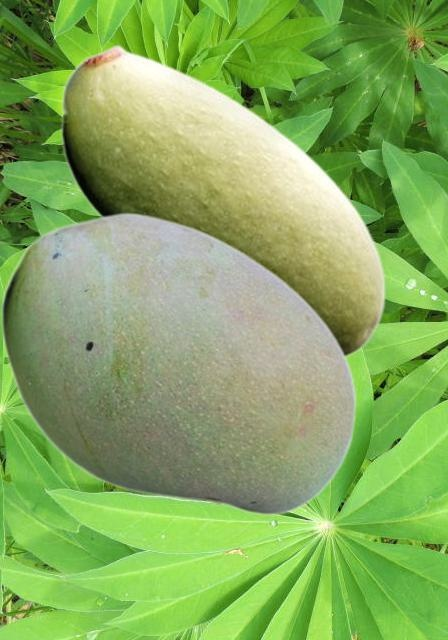green_mango: (0, 211, 356, 515), (60, 43, 385, 359)
